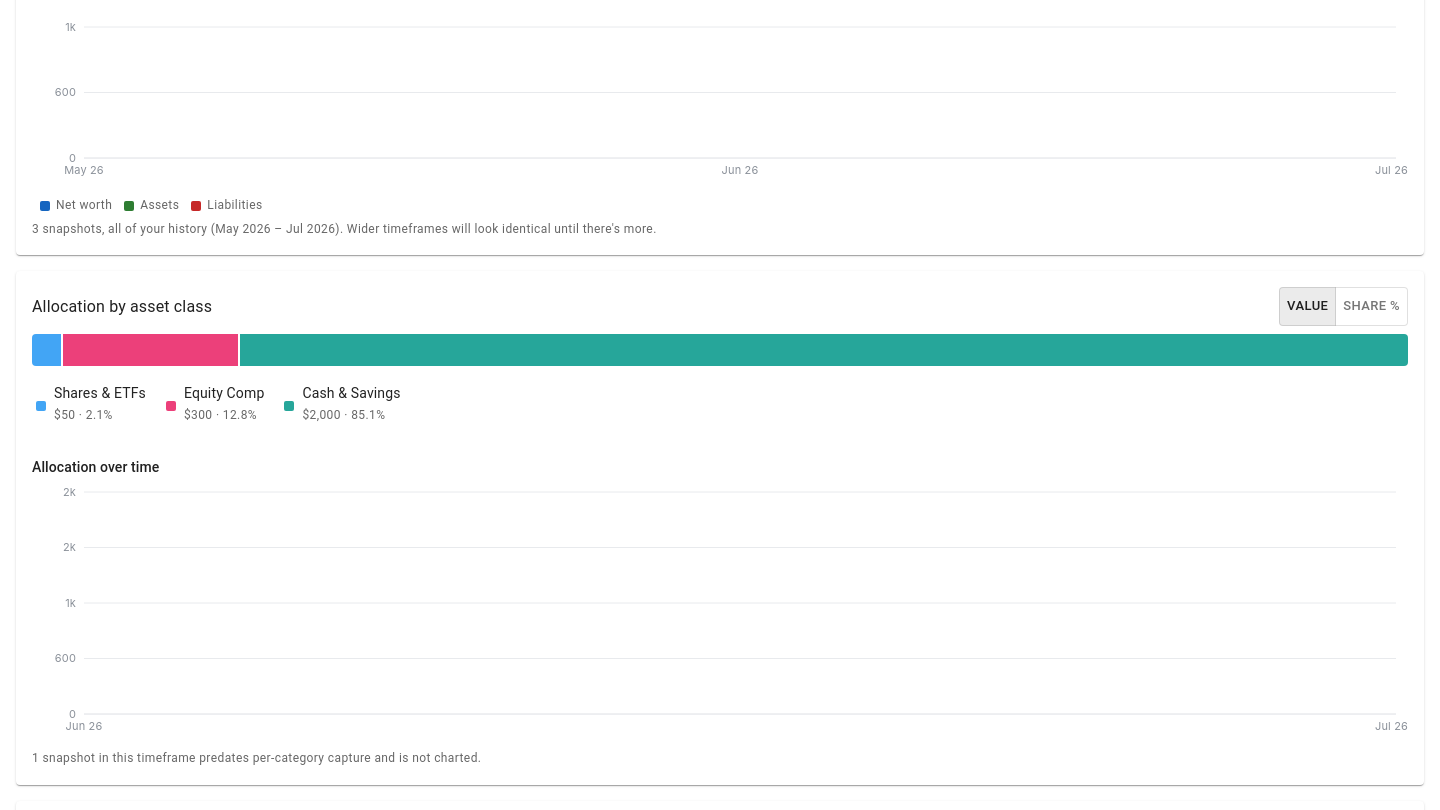
drilling into a plain asset class lists its wealth items
This screenshot has width=1440, height=810.
(page scrolled)
Click the button "Cash & Savings $2,000 · 85.1%" at [345, 406], box left=280, top=378, right=409, bottom=433
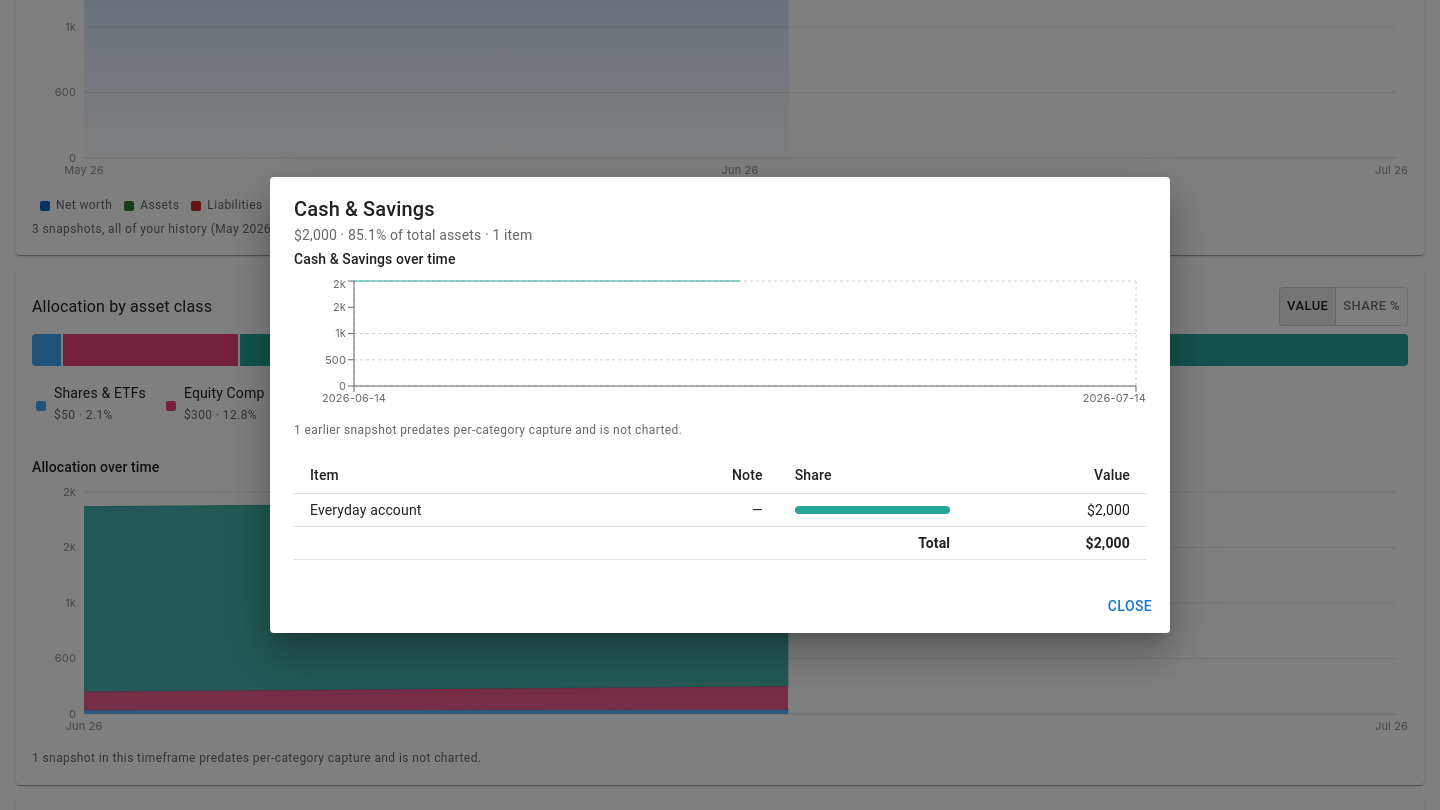
Expected: the text "Everyday account" is shown, left=294, top=494, right=631, bottom=527
Expected: the 1st text "$2,000" is shown, left=966, top=494, right=1146, bottom=527
